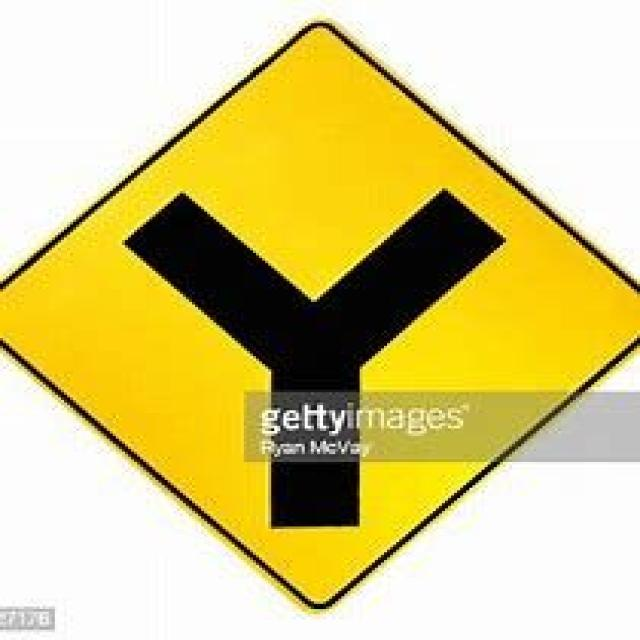light_traffic: (0, 18, 637, 609)
